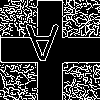A: (25, 25, 59, 70)
